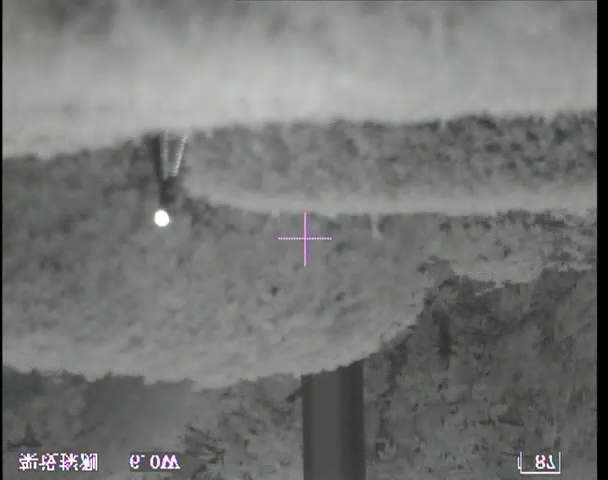my: (152, 209, 171, 228)
